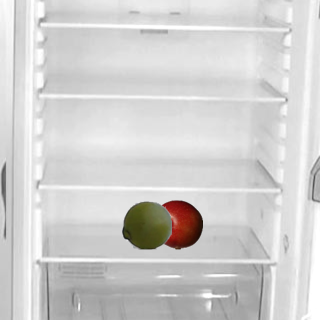Apple Braeburn: (152, 199, 202, 249)
Grape White 4: (121, 199, 171, 249)
